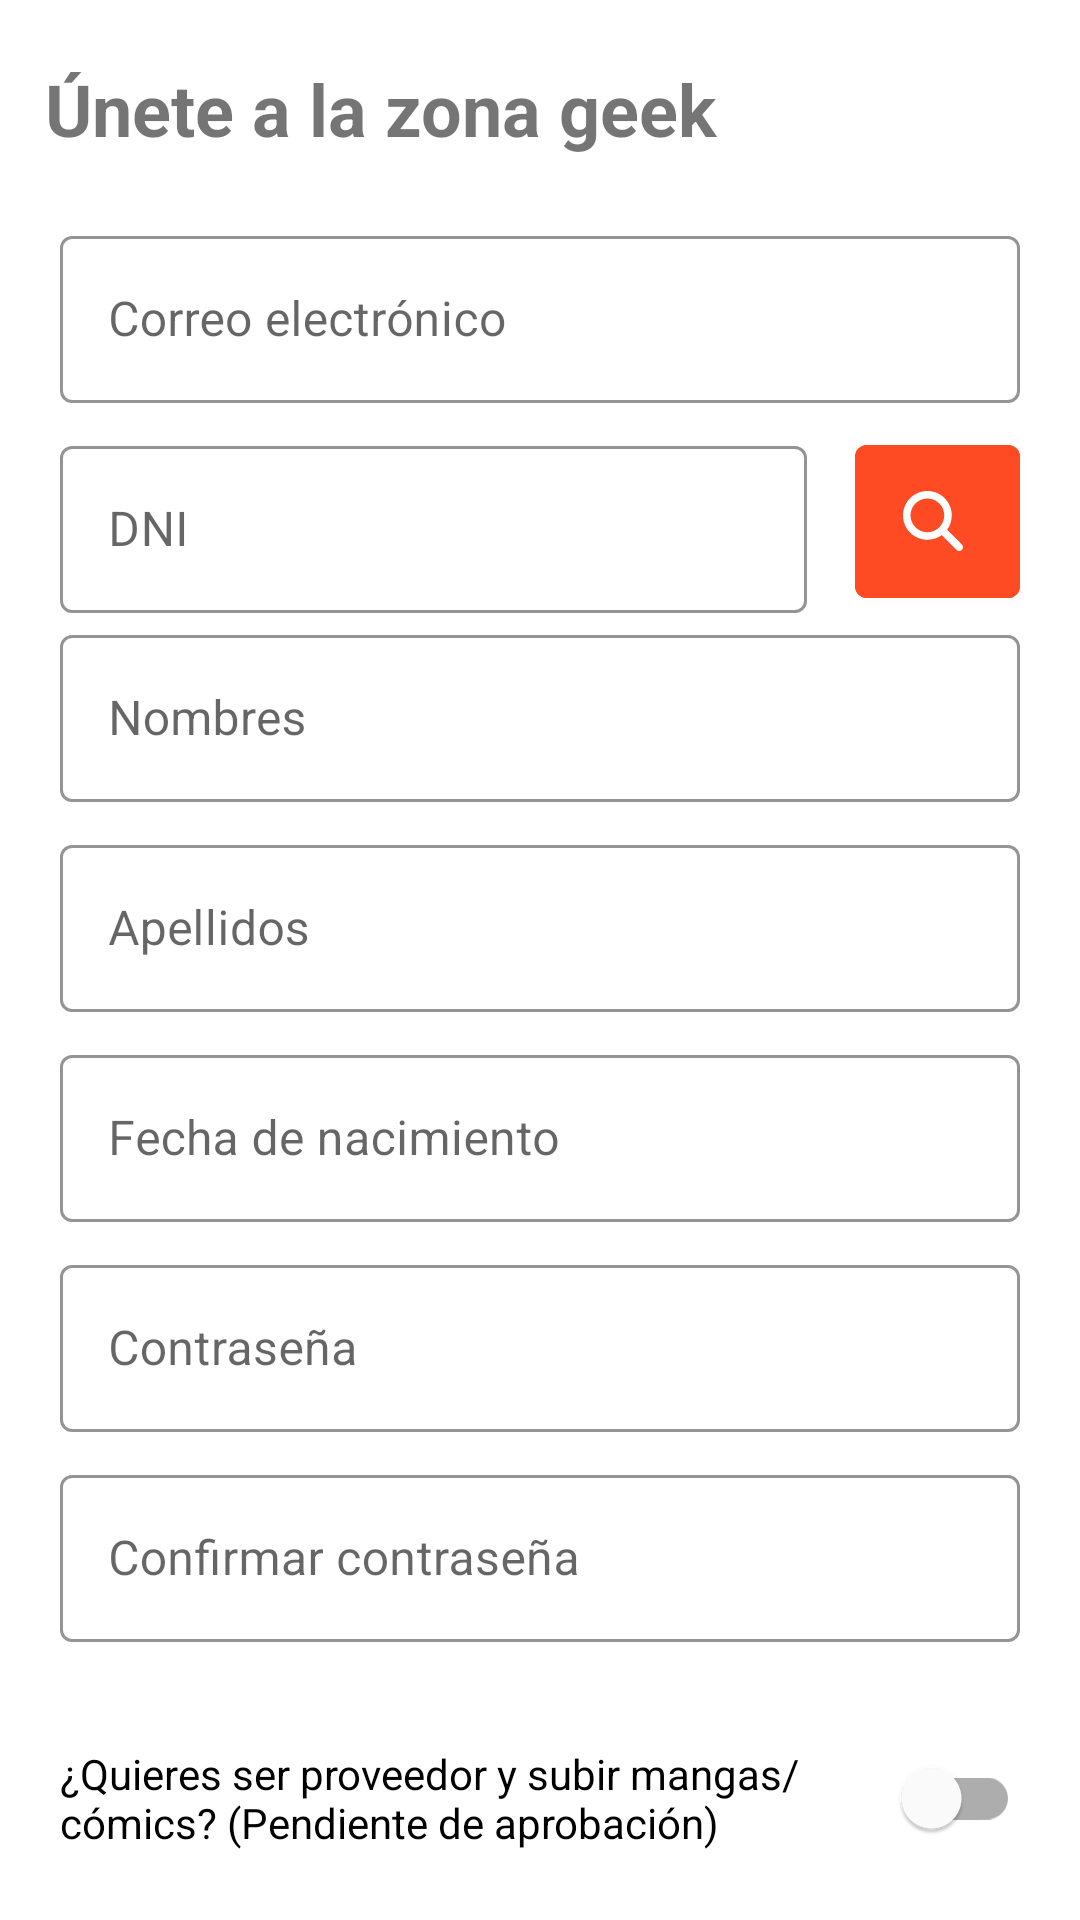

Screen size 1080x1920. Icon name, then its center in pixels as (x,y):
search: (937,521)
